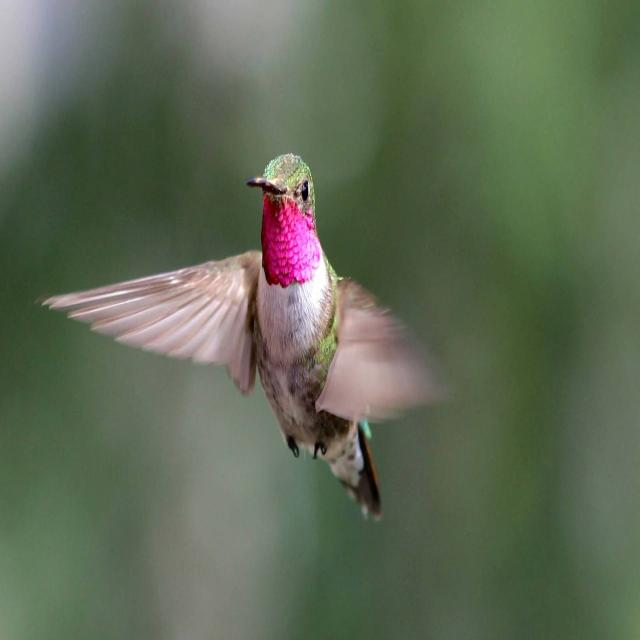Humming Bird: (50, 130, 439, 550)
